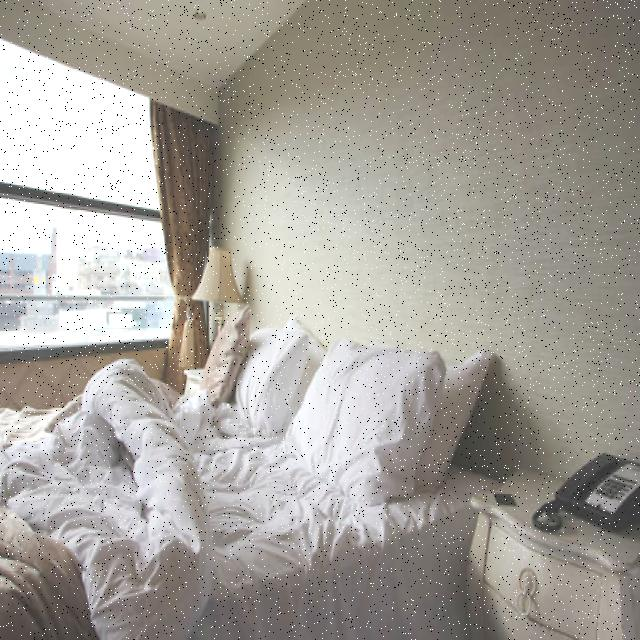bed: (0, 317, 477, 630)
